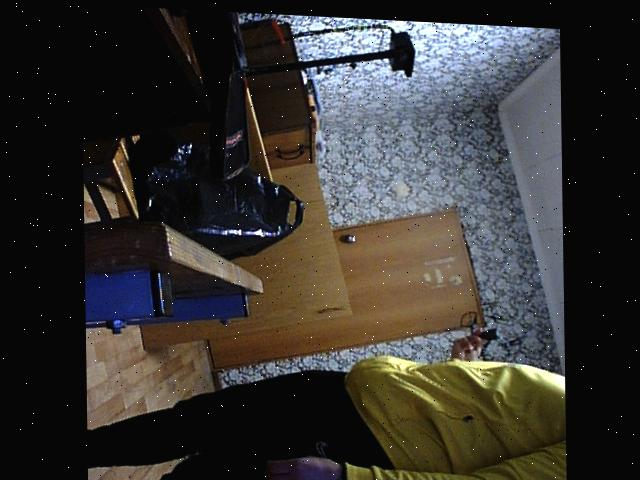drone: (452, 302, 507, 357)
